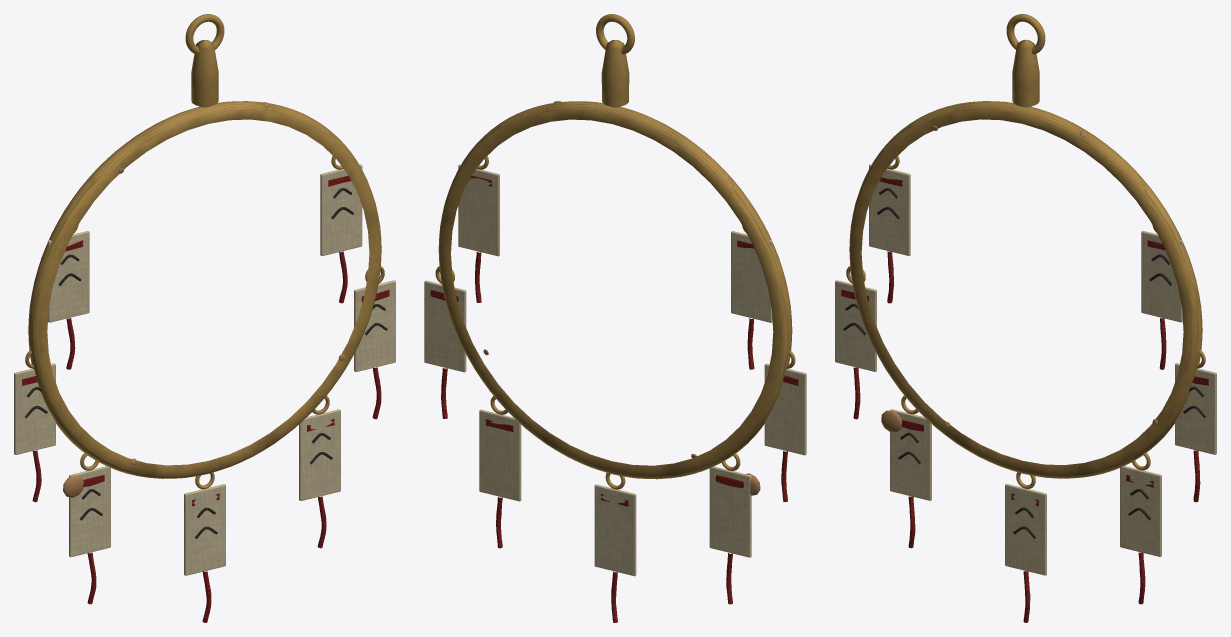
File: talisman-array.glb
The picture shows the model from 3 angles, left to right: view 1: azimuth 30°, elevation 25°; view 2: azimuth 150°, elevation 25°; view 3: azimuth 330°, elevation 25°; orthographic projection.
Parts seen in each view (by area): view 1: brass / polished brass furniture, paper / paper and vellum, cloth / canvas webbing, leather / oiled leather wrap; view 2: paper / paper and vellum, brass / polished brass furniture, cloth / canvas webbing; view 3: brass / polished brass furniture, paper / paper and vellum, cloth / canvas webbing, leather / oiled leather wrap.
Boxes of the visible parts, x1,y1,x2,y2 form: brass / polished brass furniture: (25,14,384,489); paper / paper and vellum: (14,164,395,575); cloth / canvas webbing: (22,175,389,622); leather / oiled leather wrap: (25,188,387,538); paper / paper and vellum: (424,164,806,576); brass / polished brass furniture: (435,14,795,489); cloth / canvas webbing: (430,175,798,622); brass / polished brass furniture: (846,14,1205,488); paper / paper and vellum: (835,164,1216,575); cloth / canvas webbing: (841,177,1208,622); leather / oiled leather wrap: (843,188,1206,538).
Size of the model in its own units: 0.3905 by 0.5949 by 0.0245.
6 materials, 4 textured.
